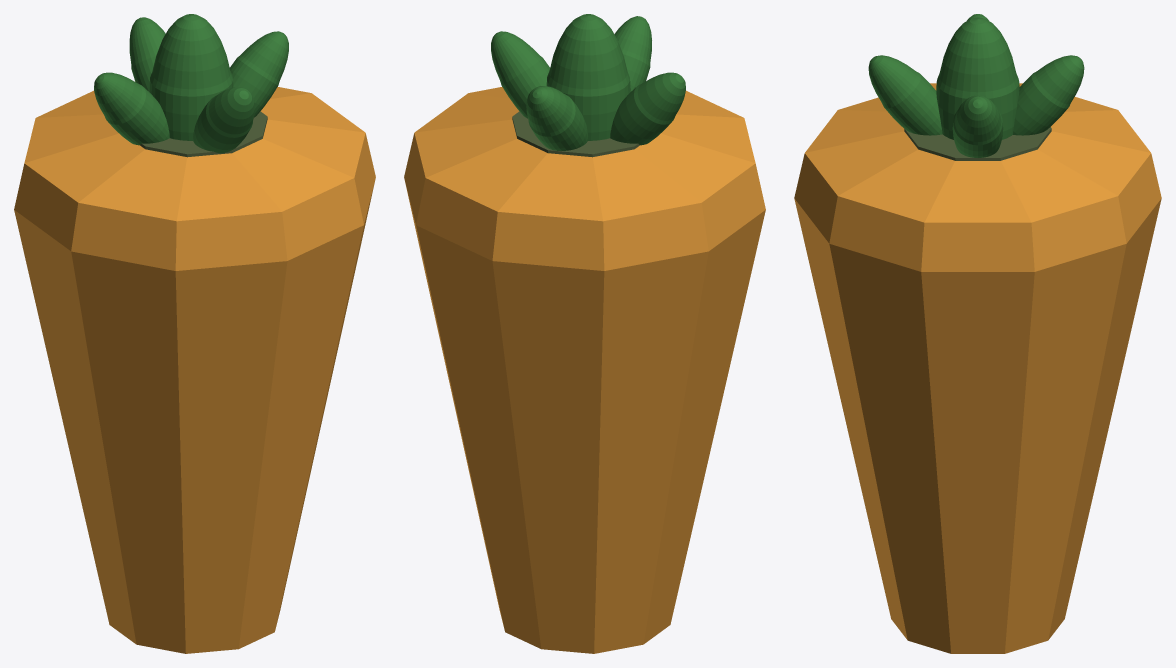
File: Carrot.fbx
3 views of the same model, side by side, from view 1: azimuth 30°, elevation 25°; view 2: azimuth 150°, elevation 25°; view 3: azimuth 270°, elevation 25° (orthographic).
Visible parts, largest first — view 1: Carrot; view 2: Carrot; view 3: Carrot.
Part boxes in pixels (<box>): Carrot: <box>14,14,375,653</box>; Carrot: <box>404,14,765,653</box>; Carrot: <box>794,14,1161,653</box>.
Size of the model in its own units: 2.07 by 3.94 by 2.18.
